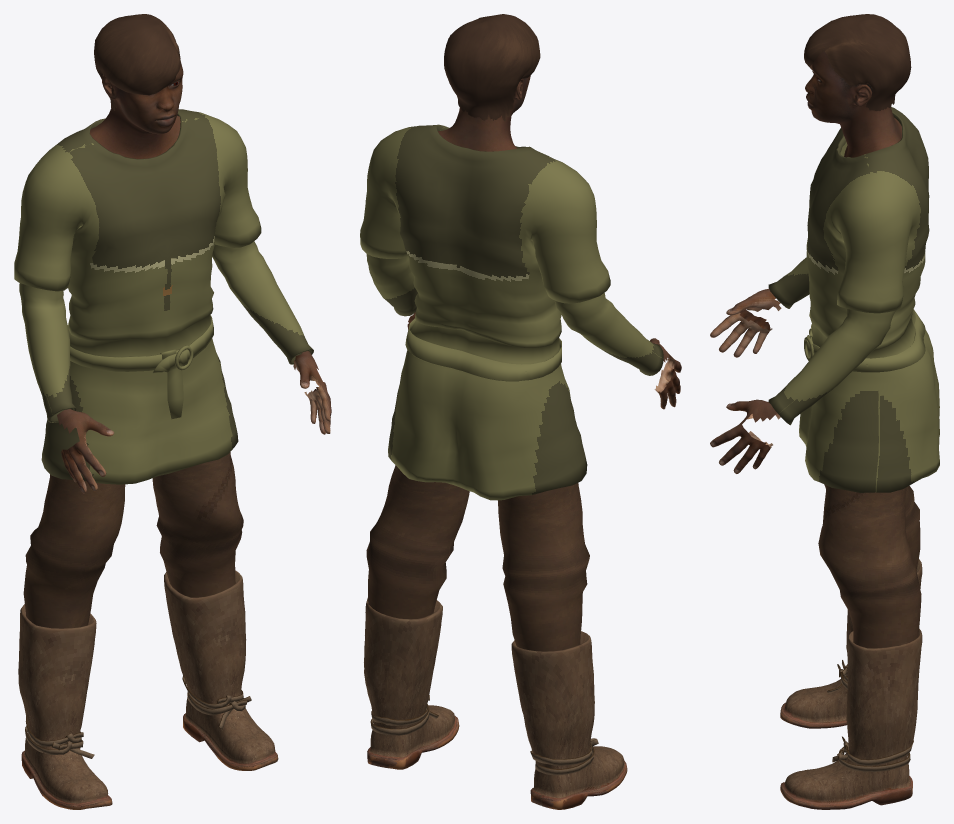
Rendered from tavin-field-tunic.glb.
3 views of the same model, side by side, from view 1: azimuth 30°, elevation 25°; view 2: azimuth 150°, elevation 25°; view 3: azimuth 270°, elevation 25° (orthographic). The views are drawn at different scales.
Visible parts, largest first — view 1: tavin-field-tunic runtime mesh; view 2: tavin-field-tunic runtime mesh; view 3: tavin-field-tunic runtime mesh.
Boxes of the visible parts, x1,y1,x2,y2 form: tavin-field-tunic runtime mesh: (14, 14, 331, 809); tavin-field-tunic runtime mesh: (360, 14, 681, 809); tavin-field-tunic runtime mesh: (710, 14, 939, 809).
Size of the model in its own units: 0.6873 by 1.85 by 0.5224.
Materials: 7 (7 with a texture image).
